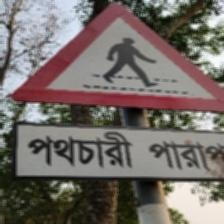Pedestrian-crossing: (9, 3, 223, 185)
